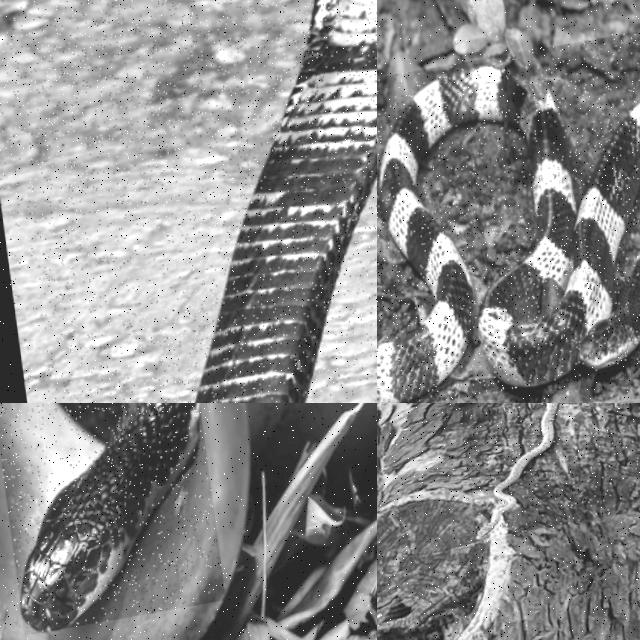Bungarus candidus: (377, 66, 639, 402)
Chrysopelea ornata: (476, 403, 558, 540)
Naja siamensis: (20, 403, 197, 632)
Ophiophagus hannah: (195, 0, 376, 402)
snake: (377, 66, 639, 402), (195, 0, 376, 402), (20, 403, 197, 632), (476, 403, 558, 540)
